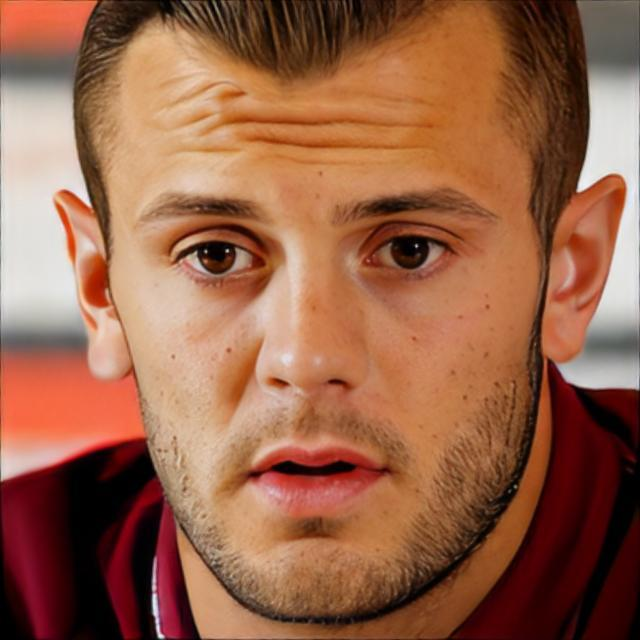surprise: (112, 0, 541, 618)
